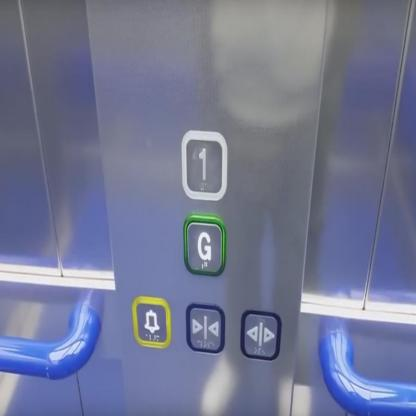1: (180, 126, 229, 203)
G: (181, 211, 226, 279)
alarm: (130, 293, 172, 352)
close: (184, 300, 226, 355)
open: (238, 307, 283, 363)
